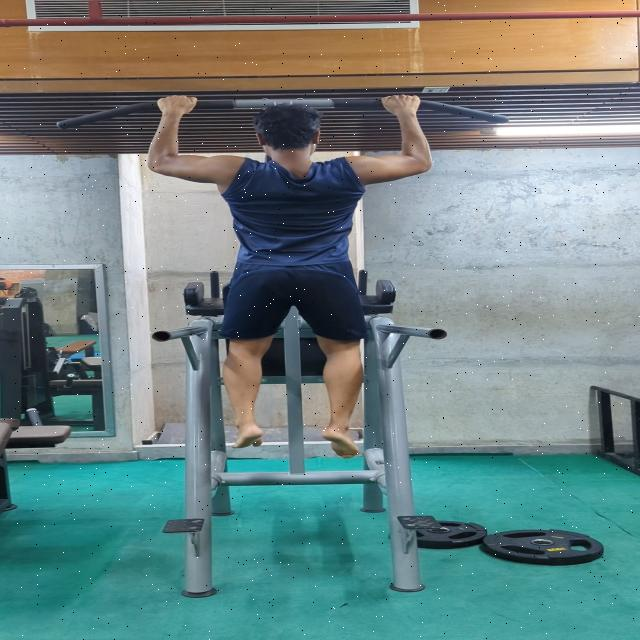Normal_PullUps: (134, 85, 457, 464)
